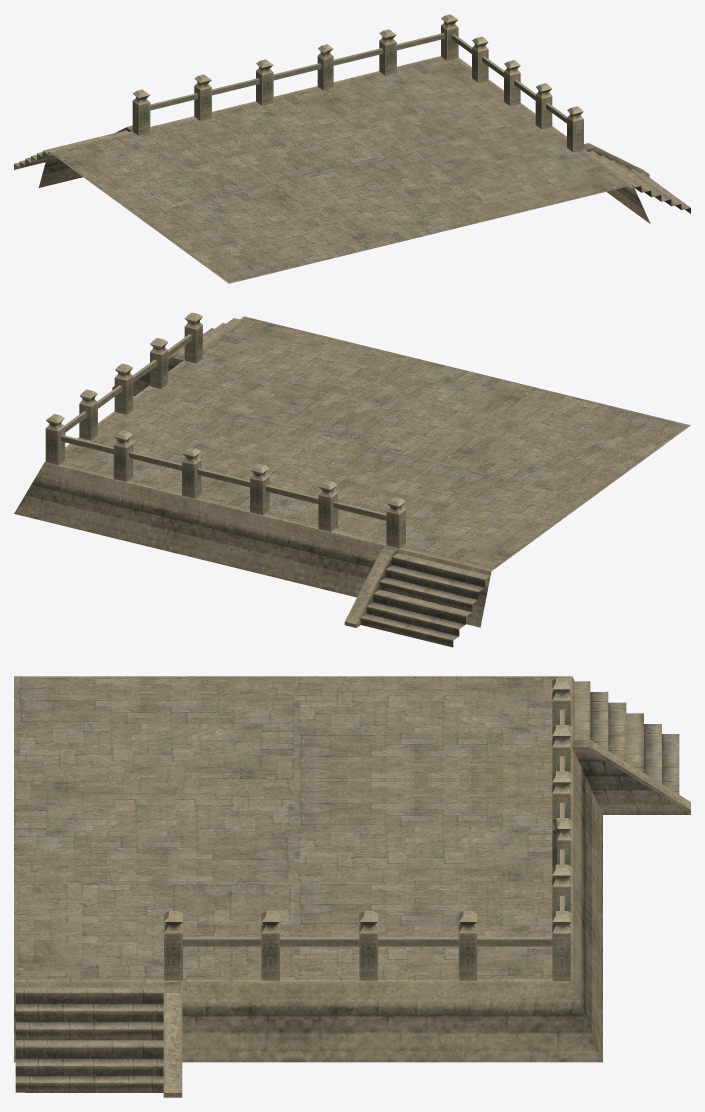
File: desert_tower04.fbx
3 views of the same model, one above another, from view 1: azimuth 30°, elevation 25°; view 2: azimuth 150°, elevation 25°; view 3: azimuth 270°, elevation 25° (orthographic). The views are drawn at different scales.
Parts seen in each view (by area): view 1: desert_tower02_04; view 2: desert_tower02_04; view 3: desert_tower02_04.
Part boxes in pixels (left/top/right/bottom): desert_tower02_04: left=14, top=14, right=690, bottom=283; desert_tower02_04: left=14, top=312, right=690, bottom=647; desert_tower02_04: left=14, top=676, right=690, bottom=1097.
Bounding box in the file's own units: 42.51 × 7.32 × 34.34.
